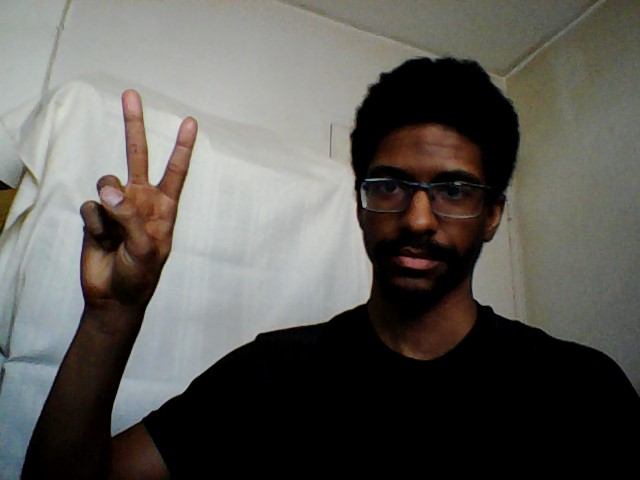v: (76, 87, 202, 310)
